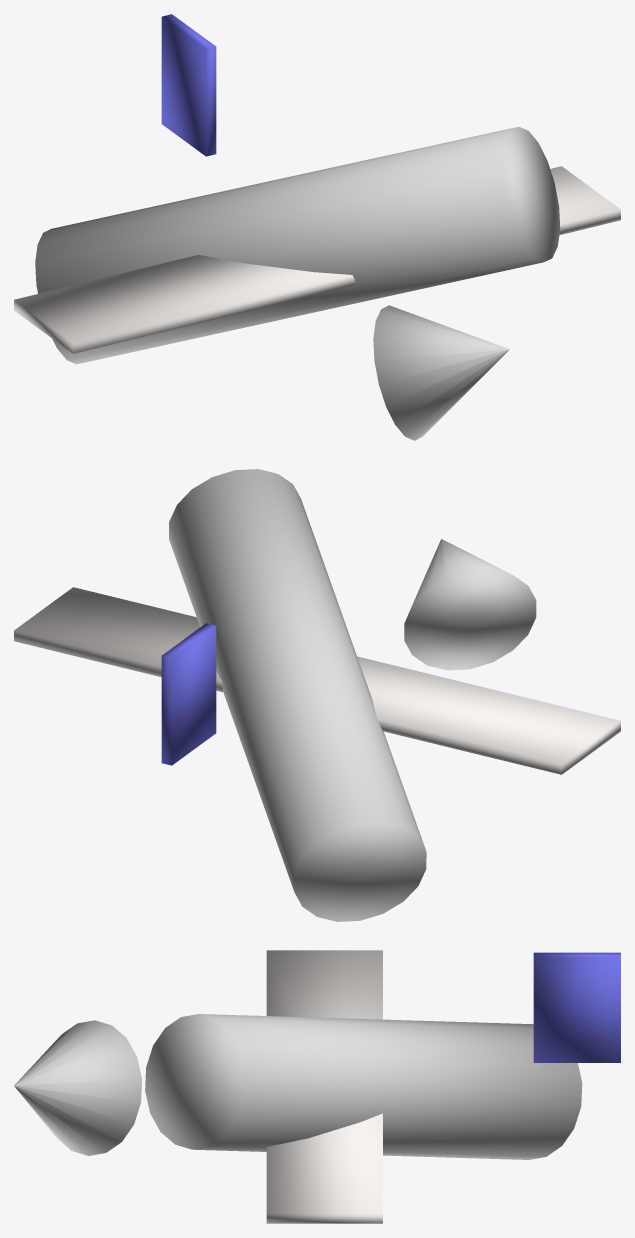
Rendered from airplane.glb.
The picture shows the model from 3 angles, top to bottom: view 1: azimuth 30°, elevation 25°; view 2: azimuth 150°, elevation 25°; view 3: azimuth 270°, elevation 25°; orthographic projection.
Parts seen in each view (by area): view 1: fuse, wings, nose, tail; view 2: fuse, wings, nose, tail; view 3: fuse, wings, nose, tail.
Boxes of the visible parts, bbox=[...] form: fuse: bbox=[35, 126, 560, 364]; wings: bbox=[14, 166, 620, 353]; nose: bbox=[373, 305, 509, 440]; tail: bbox=[161, 14, 216, 156]; fuse: bbox=[169, 469, 426, 921]; wings: bbox=[14, 587, 620, 774]; nose: bbox=[404, 539, 536, 670]; tail: bbox=[161, 623, 216, 765]; fuse: bbox=[145, 1014, 582, 1159]; wings: bbox=[266, 950, 382, 1223]; nose: bbox=[14, 1020, 141, 1155]; tail: bbox=[533, 952, 620, 1062].
Bounding box in the file's own units: 3.2 × 1.52 × 3.13.
